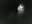person: (18, 4, 25, 16)
